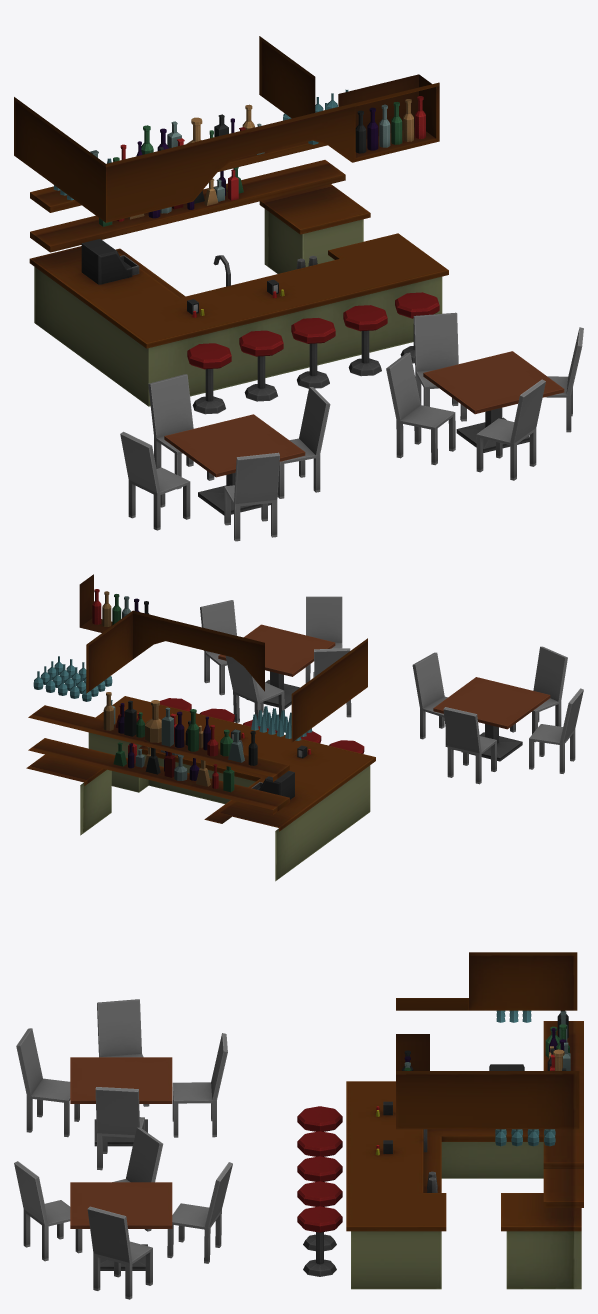
The model's file is Bar.93485c6c.glb.
3 renders of one model, top to bottom at view 1: azimuth 30°, elevation 25°; view 2: azimuth 150°, elevation 25°; view 3: azimuth 270°, elevation 25°, orthographic. The views are drawn at different scales.
Parts seen in each view (by area): view 1: Bar_mesh; view 2: Bar_mesh; view 3: Bar_mesh.
Part boxes in pixels (<box>): Bar_mesh: <box>14,36,583,541</box>; Bar_mesh: <box>26,574,583,881</box>; Bar_mesh: <box>14,952,583,1299</box>.
Bounding box in the file's own units: 1580 × 773 × 1732.
Materials: 2 (2 with a texture image).
